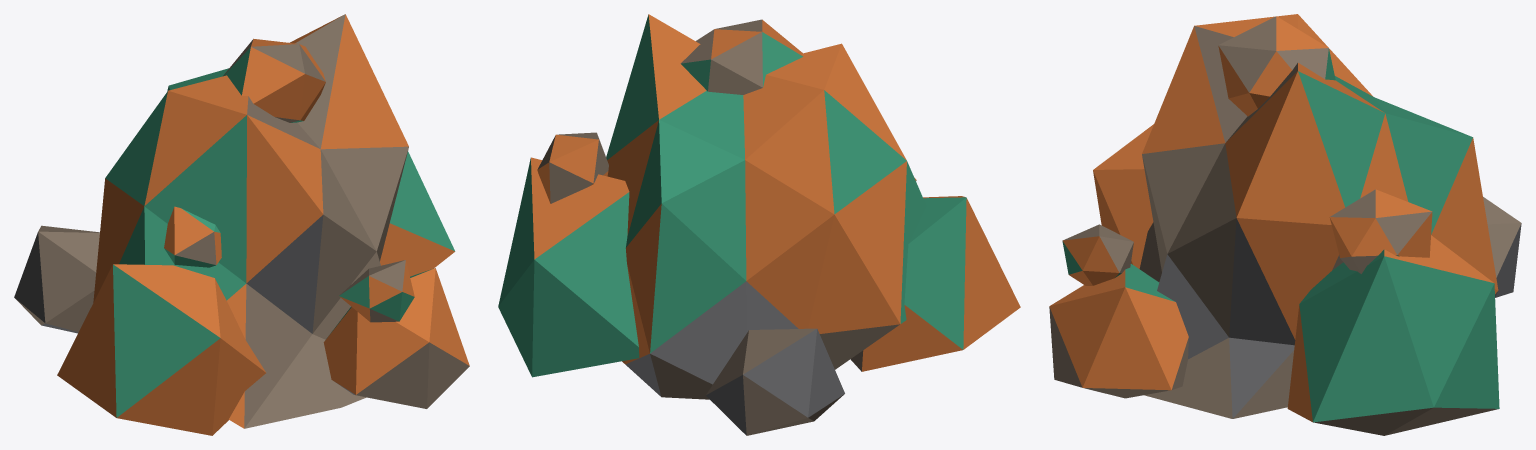
The model's file is copper_ore_b.glb.
The picture shows the model from 3 angles, left to right: view 1: azimuth 30°, elevation 25°; view 2: azimuth 150°, elevation 25°; view 3: azimuth 270°, elevation 25°; orthographic projection. The views are drawn at different scales.
Visible parts, largest first — view 1: copper_ore_b; view 2: copper_ore_b; view 3: copper_ore_b.
Boxes of the visible parts, <box> form: copper_ore_b: <box>14,14,469,435</box>; copper_ore_b: <box>498,14,1020,435</box>; copper_ore_b: <box>1049,14,1521,435</box>.
Size of the model in its own units: 1.2 by 0.8331 by 1.09.
